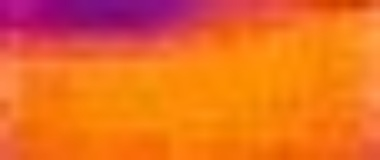Shadow: (1, 1, 210, 42)
